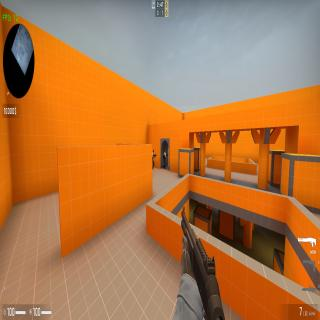T-Body: (163, 150, 166, 169), (152, 150, 154, 170)
T-Head: (153, 150, 154, 154), (165, 150, 166, 153)
